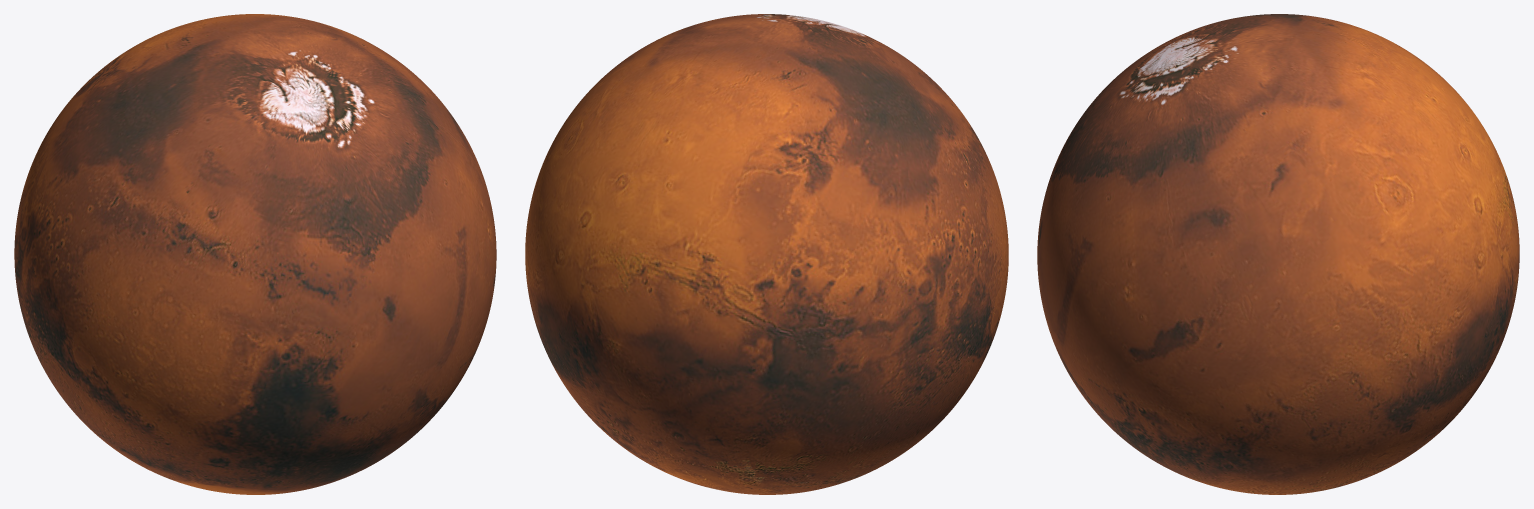
The model's file is 4_mars.gltf.
The picture shows the model from 3 angles, left to right: view 1: azimuth 30°, elevation 25°; view 2: azimuth 150°, elevation 25°; view 3: azimuth 270°, elevation 25°; orthographic projection.
Visible parts, largest first — view 1: Mars_globe; view 2: Mars_globe; view 3: Mars_globe.
Part boxes in pixels (box(x1,y1,x2,y2)): Mars_globe: box(14, 14, 496, 494); Mars_globe: box(525, 14, 1008, 494); Mars_globe: box(1037, 14, 1519, 494).
Size of the model in its own units: 6.79 by 6.76 by 6.79.
Materials: 1 (1 with a texture image).
